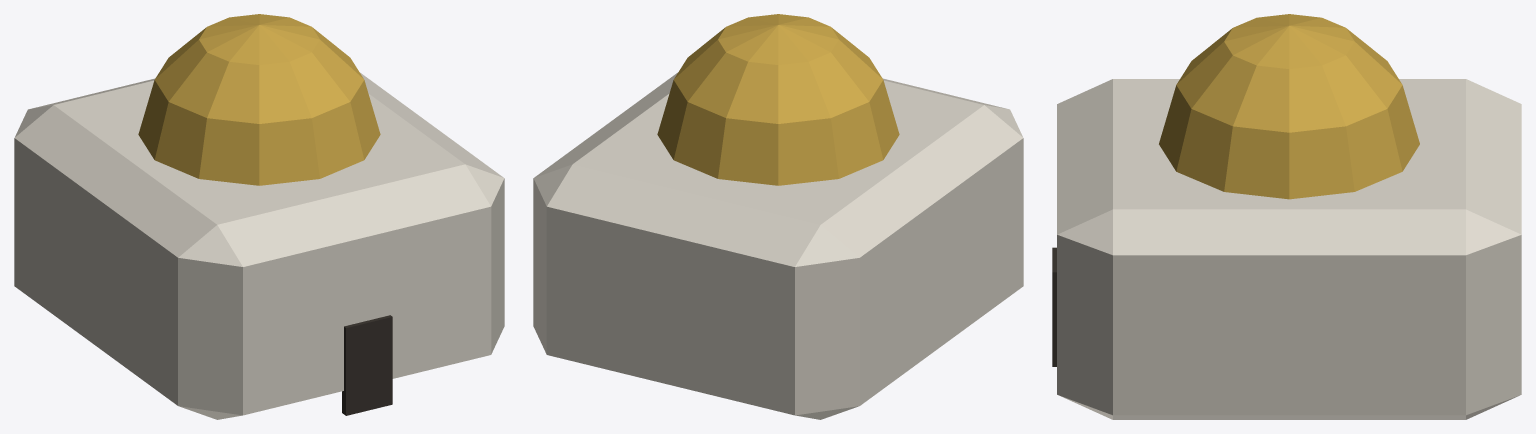
The model's file is synagogue.glb.
3 renders of one model, left to right at view 1: azimuth 30°, elevation 25°; view 2: azimuth 150°, elevation 25°; view 3: azimuth 270°, elevation 25°, orthographic. The views are drawn at different scales.
Visible parts, largest first — view 1: walls, dome, arch; view 2: walls, dome; view 3: walls, dome, arch.
Part boxes in pixels (x1=…): walls: x1=14, y1=72, x2=504, y2=419; dome: x1=138, y1=14, x2=380, y2=185; arch: x1=342, y1=315, x2=392, y2=415; walls: x1=533, y1=72, x2=1023, y2=419; dome: x1=657, y1=14, x2=899, y2=185; walls: x1=1057, y1=79, x2=1521, y2=419; dome: x1=1159, y1=14, x2=1419, y2=199; arch: x1=1052, y1=247, x2=1056, y2=366.
Size of the model in its own units: 14 by 12.5 by 16.17.
